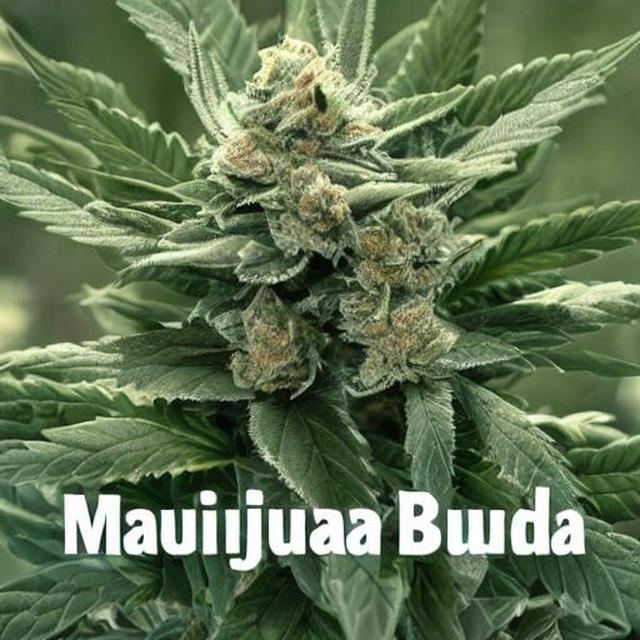Marijuana Joint: (8, 6, 326, 616), (419, 141, 616, 640)
